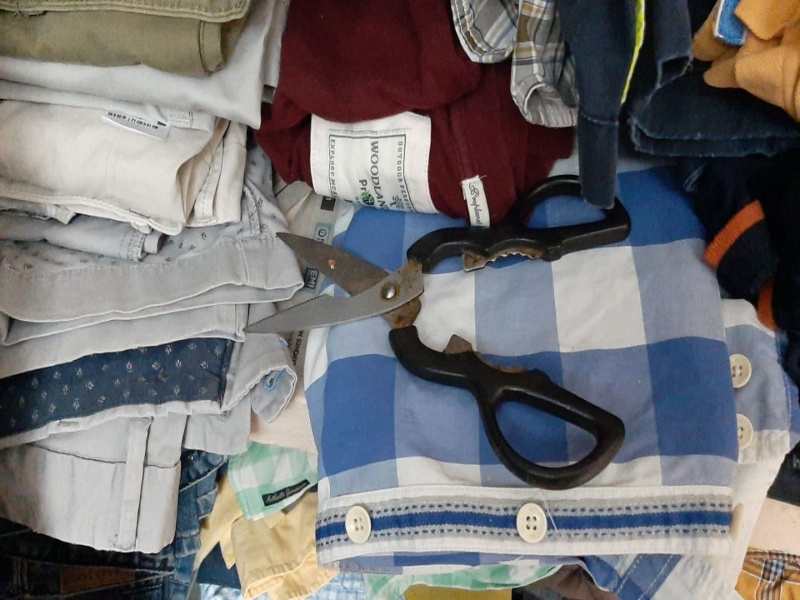scissor: (242, 174, 631, 494)
